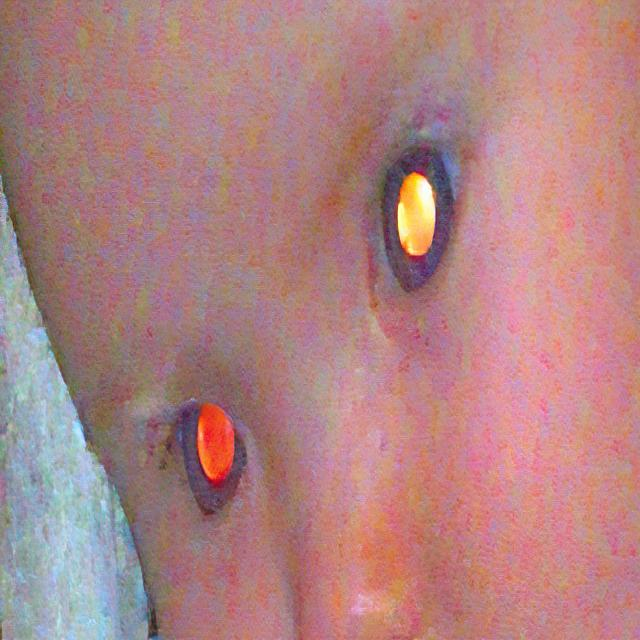reflexo-alterado: (347, 133, 472, 317)
reflexo-normal: (147, 389, 261, 536)
